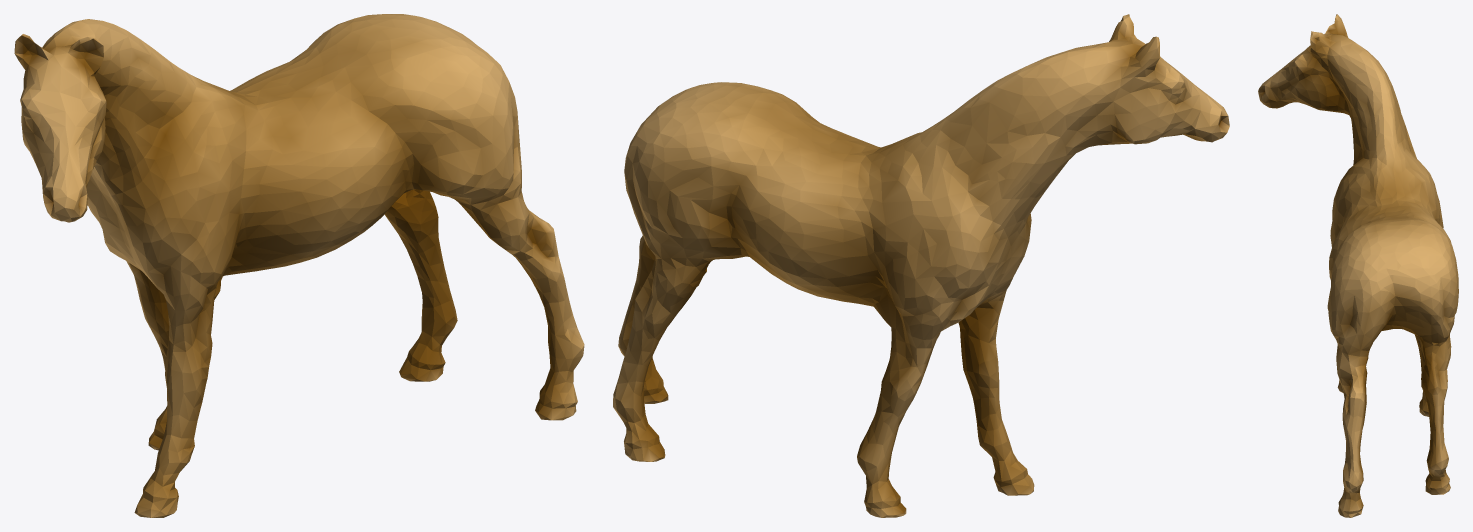
Rendered from horse5KC.obj.
3 views of the same model, side by side, from view 1: azimuth 30°, elevation 25°; view 2: azimuth 150°, elevation 25°; view 3: azimuth 270°, elevation 25° (orthographic). The views are drawn at different scales.
Bounding box in the file's own units: 0.1834 × 0.1527 × 0.0841.
